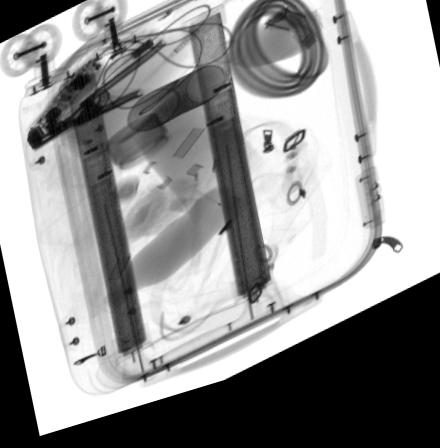Pliers: (26, 48, 168, 154)
